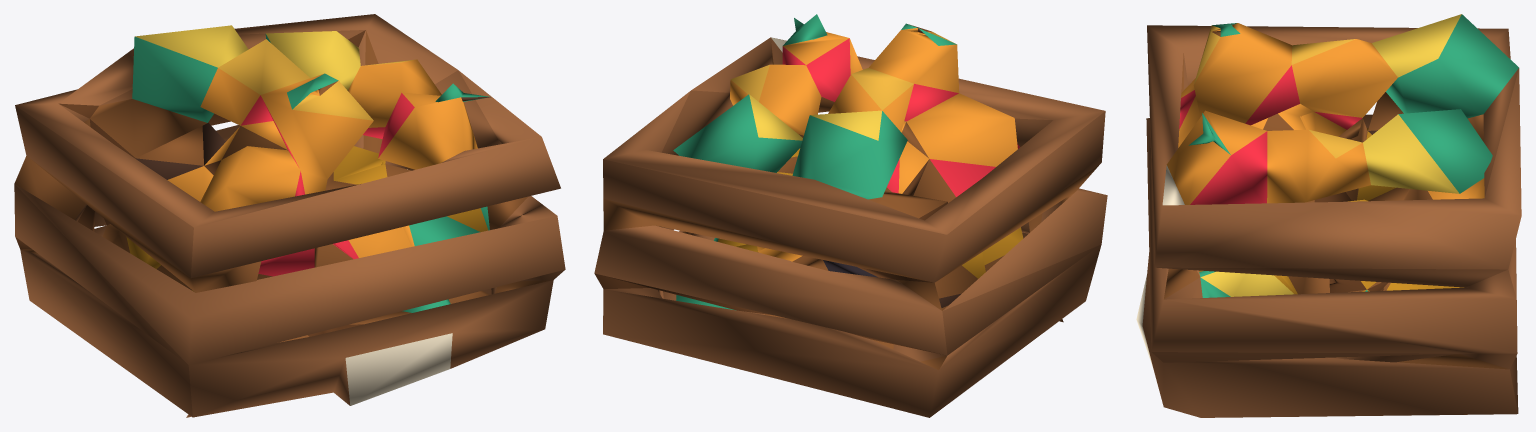
The model's file is SM_crate_oranges.glb.
The picture shows the model from 3 angles, left to right: view 1: azimuth 30°, elevation 25°; view 2: azimuth 150°, elevation 25°; view 3: azimuth 270°, elevation 25°; orthographic projection. The views are drawn at different scales.
Parts seen in each view (by area): view 1: SM_crate_oranges; view 2: SM_crate_oranges; view 3: SM_crate_oranges.
Part boxes in pixels (left/top/right/bottom): SM_crate_oranges: left=14, top=14, right=565, bottom=417; SM_crate_oranges: left=594, top=14, right=1107, bottom=417; SM_crate_oranges: left=1136, top=14, right=1521, bottom=417.
Size of the model in its own units: 0.5351 by 0.4 by 0.4582.
1 material, 1 textured.
